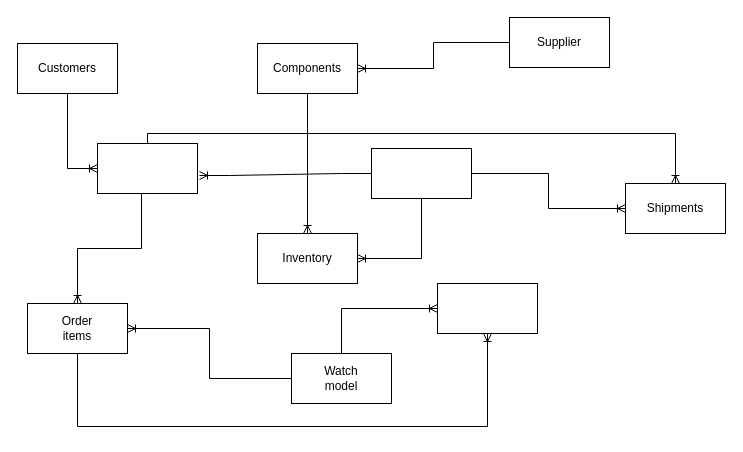
Image size: 743x452. Some labels were removed from this diagram. The centre of each missing label's shape, as x and y in pixels:
"Customization specification" goes at point 487,308.
"Locations" goes at point 421,173.
"Orders" goes at point 147,168.
